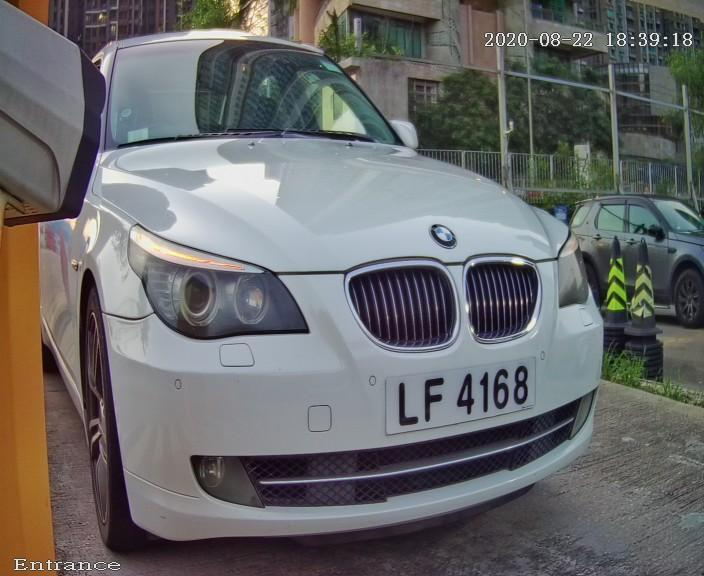Car: (10, 13, 667, 564)
License Plate: (360, 328, 595, 455)
